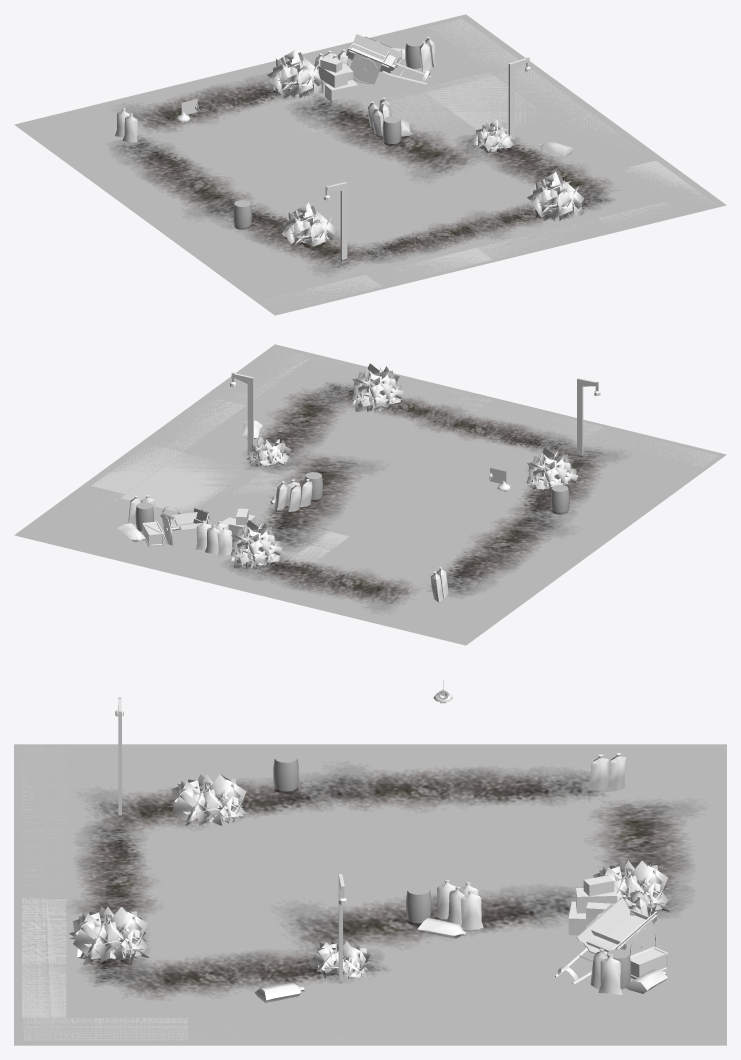
Rendered from propsonly_bakery.gltf.
The picture shows the model from 3 angles, top to bottom: view 1: azimuth 30°, elevation 25°; view 2: azimuth 150°, elevation 25°; view 3: azimuth 270°, elevation 25°; orthographic projection. The views are drawn at different scales.
Visible parts, largest first — view 1: file_b2_ground1.048, file_industrial_invcorner, file_b2_ground1.011, file_b2_ground1.010, file_b2_ground1.012, file_b2_ground3.011, file_b12_ground.001, file_b12_ground.002, file_b2_ground1.007, file_b2_ground1.013, file_b2_ground3.023, file_b2_ground2.002 (+24 smaller); view 2: file_b2_ground1.007, file_b2_ground1.013, file_b2_ground1.012, file_b2_ground1.048, file_b12_ground.002, file_b12_ground.001, file_b2_ground3.011, file_b2_ground1.010, file_b2_ground1.011, file_b2_ground3.023, file_b2_ground1.014, file_industrial_invcorner (+24 smaller); view 3: file_b2_ground1.010, file_b2_ground2.002, file_b2_ground3.011, file_b2_ground1.012, file_b2_ground3.023, file_b12_ground.001, file_b12_ground.002, file_b2_ground1.011, file_b2_ground1.007, file_b2_ground1.048, file_b2_ground1.014, file_industrial_invcorner (+30 smaller).
Boxes of the visible parts, left/top/right/bottom form: file_b2_ground1.048: left=124, top=68, right=313, bottom=144; file_industrial_invcorner: left=362, top=136, right=535, bottom=212; file_b2_ground1.011: left=188, top=115, right=367, bottom=190; file_b2_ground1.010: left=326, top=212, right=494, bottom=288; file_b2_ground1.012: left=78, top=144, right=260, bottom=217; file_b2_ground3.011: left=505, top=107, right=662, bottom=183; file_b12_ground.001: left=211, top=244, right=384, bottom=315; file_b12_ground.002: left=569, top=159, right=726, bottom=234; file_b2_ground1.007: left=252, top=164, right=442, bottom=238; file_b2_ground1.013: left=141, top=191, right=303, bottom=268; file_b2_ground3.023: left=14, top=95, right=187, bottom=170; file_b2_ground2.002: left=411, top=61, right=597, bottom=134; file_b2_ground1.007: left=362, top=445, right=532, bottom=523; file_b2_ground1.013: left=479, top=480, right=662, bottom=552; file_b2_ground1.012: left=419, top=518, right=592, bottom=598; file_b2_ground1.048: left=246, top=543, right=423, bottom=618; file_b12_ground.002: left=205, top=344, right=395, bottom=424; file_b12_ground.001: left=566, top=425, right=726, bottom=500; file_b2_ground3.011: left=141, top=391, right=332, bottom=471; file_b2_ground1.010: left=426, top=398, right=615, bottom=468; file_b2_ground1.011: left=307, top=499, right=488, bottom=571; file_b2_ground3.023: left=345, top=572, right=529, bottom=645; file_b2_ground1.014: left=14, top=484, right=187, bottom=564; file_industrial_invcorner: left=269, top=421, right=435, bottom=495; file_b2_ground1.010: left=14, top=817, right=205, bottom=898; file_b2_ground2.002: left=361, top=964, right=552, bottom=1045; file_b2_ground3.011: left=188, top=964, right=379, bottom=1045; file_b2_ground1.012: left=361, top=744, right=552, bottom=825; file_b2_ground3.023: left=535, top=744, right=726, bottom=825; file_b12_ground.001: left=14, top=744, right=205, bottom=825; file_b12_ground.002: left=14, top=964, right=200, bottom=1045; file_b2_ground1.011: left=361, top=817, right=552, bottom=891; file_b2_ground1.007: left=188, top=817, right=379, bottom=891; file_b2_ground1.048: left=535, top=817, right=726, bottom=898; file_b2_ground1.014: left=536, top=964, right=726, bottom=1045; file_industrial_invcorner: left=188, top=891, right=379, bottom=964.
Size of what is drawn, in the model's own units: 4.1 by 0.882 by 4.1.
